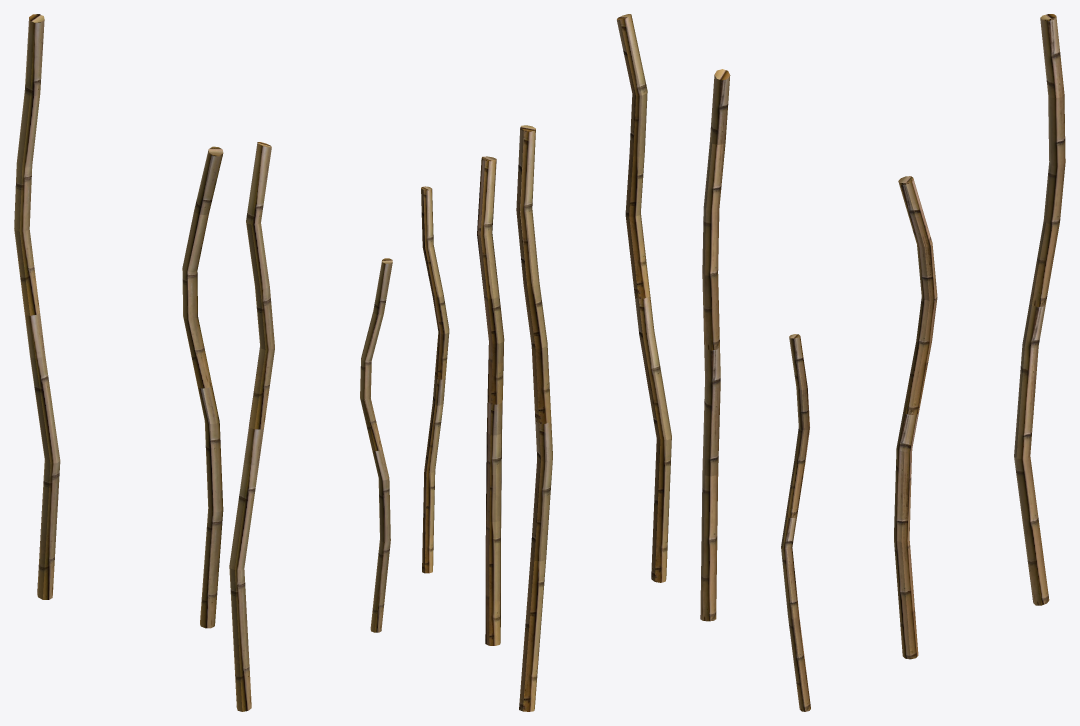
File: canes0.fbx
3 views of the same model, side by side, from view 1: azimuth 30°, elevation 25°; view 2: azimuth 150°, elevation 25°; view 3: azimuth 270°, elevation 25° (orthographic).
Parts seen in each view (by area): view 1: cane.002, cane.000, cane.003, cane.001; view 2: cane.002, cane.000, cane.003, cane.001; view 3: cane.002, cane.000, cane.003, cane.001.
Boxes of the visible parts, <box> form: cane.002: <box>14,14,60,599</box>; cane.000: <box>229,142,274,711</box>; cane.003: <box>182,146,223,628</box>; cane.001: <box>360,258,392,632</box>; cane.002: <box>516,125,552,711</box>; cane.000: <box>617,14,671,582</box>; cane.003: <box>477,156,504,645</box>; cane.001: <box>421,186,449,573</box>; cane.002: <box>1014,14,1065,605</box>; cane.000: <box>700,69,730,621</box>; cane.003: <box>894,176,937,659</box>; cane.001: <box>781,334,810,711</box>.
Size of the model in its own units: 92.59 by 206 by 116.
